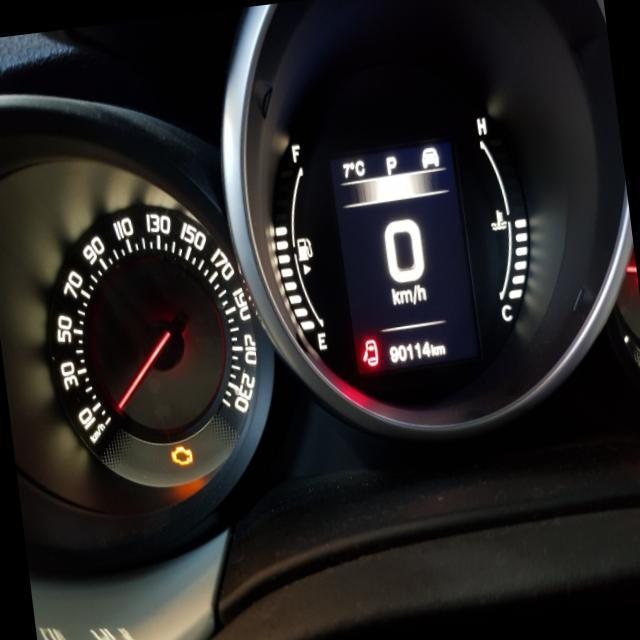Doors: (359, 337, 379, 366)
